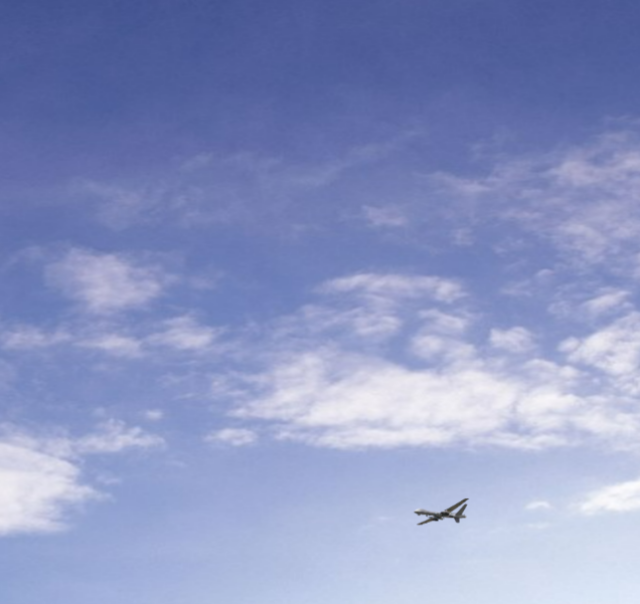military drone: (413, 497, 469, 525)
